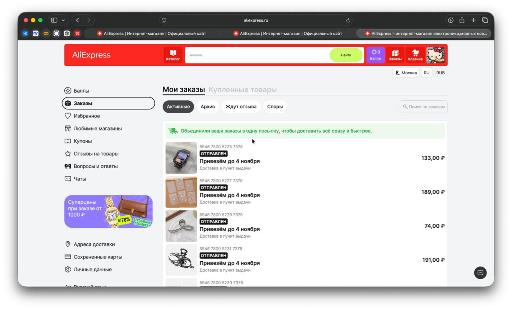aliexpress: (19, 40, 494, 287)
